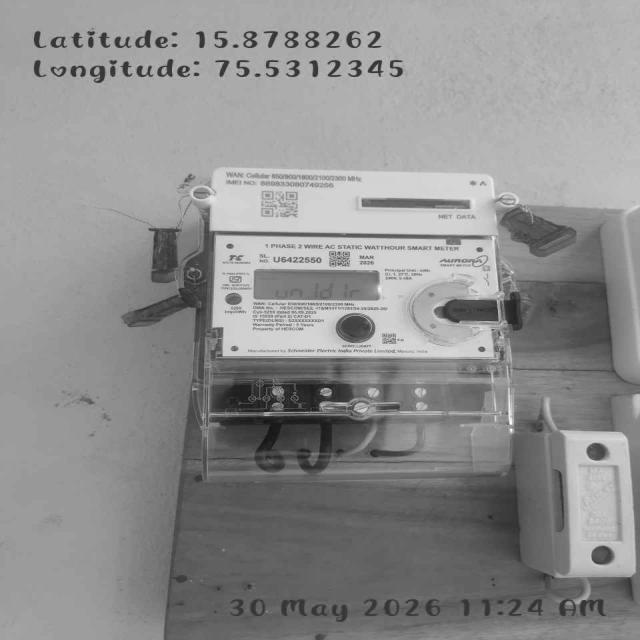meter: (211, 164, 501, 362)
